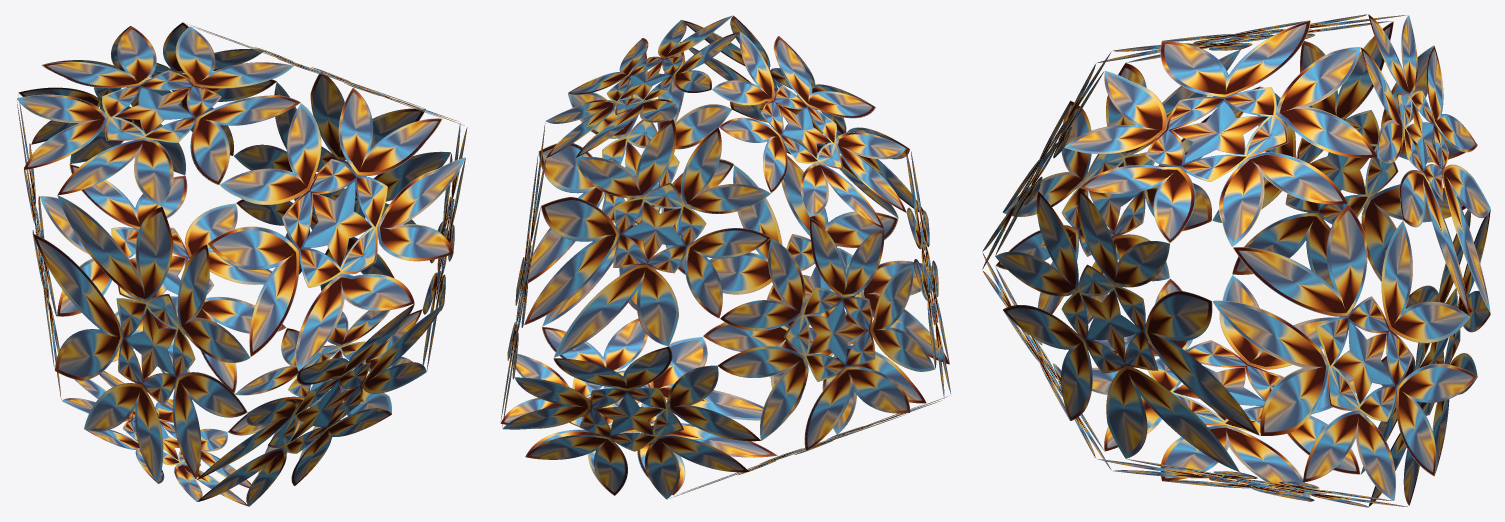
Rendered from Tetartoid1.obj.
3 views of the same model, side by side, from view 1: azimuth 30°, elevation 25°; view 2: azimuth 150°, elevation 25°; view 3: azimuth 270°, elevation 25° (orthographic). The views are drawn at different scales.
Bounding box in the file's own units: 22 × 22 × 22.
Materials: 1 (1 with a texture image).
